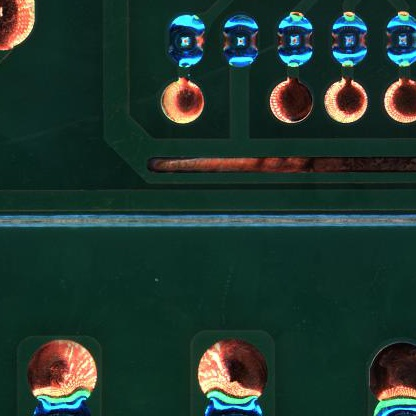spot: (275, 13, 317, 68), (166, 12, 205, 69), (220, 14, 260, 69), (332, 12, 370, 67), (384, 10, 416, 67)
